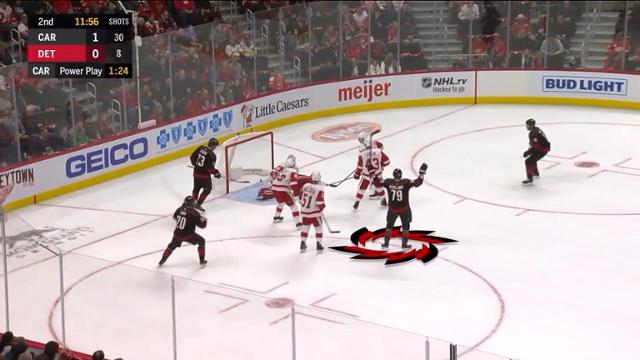geico: (64, 135, 156, 182)
